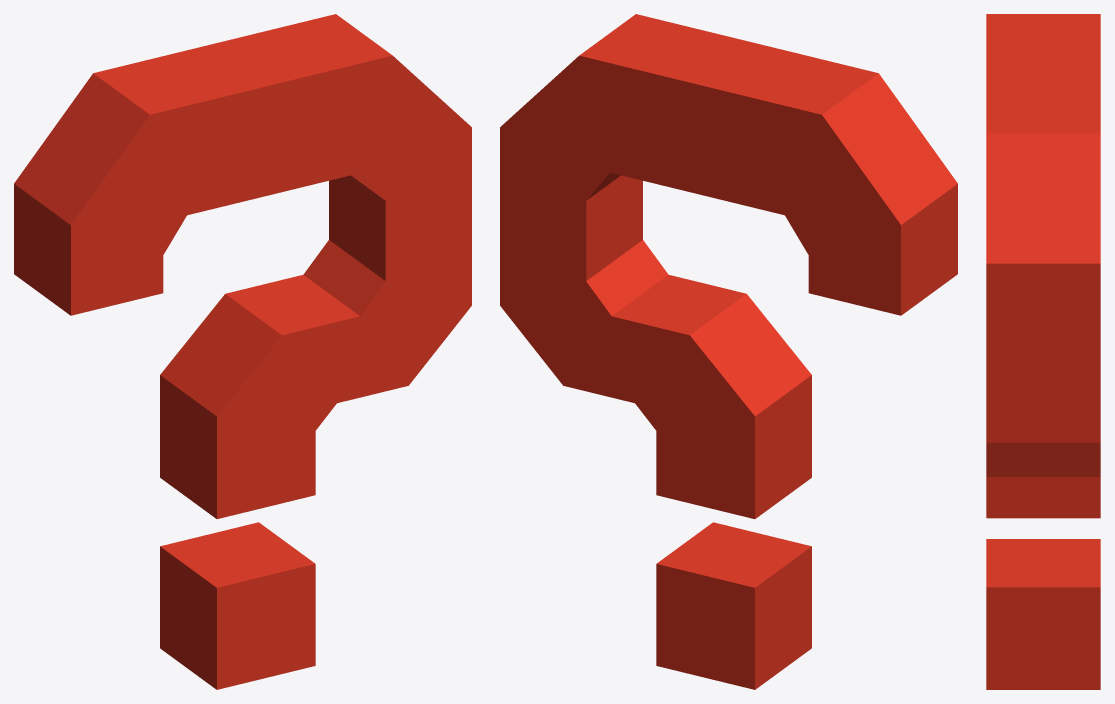
Rendered from Icon_Symbol_QuestionMark_01.fbx.
3 views of the same model, side by side, from view 1: azimuth 30°, elevation 25°; view 2: azimuth 150°, elevation 25°; view 3: azimuth 270°, elevation 25° (orthographic).
Visible parts, largest first — view 1: Icon_Symbol_QuestionMark_01; view 2: Icon_Symbol_QuestionMark_01; view 3: Icon_Symbol_QuestionMark_01.
Boxes of the visible parts, bbox=[...] form: Icon_Symbol_QuestionMark_01: bbox=[14, 14, 471, 689]; Icon_Symbol_QuestionMark_01: bbox=[500, 14, 957, 689]; Icon_Symbol_QuestionMark_01: bbox=[986, 14, 1100, 689].
Size of the model in its own units: 49.16 by 69.26 by 12.06.
